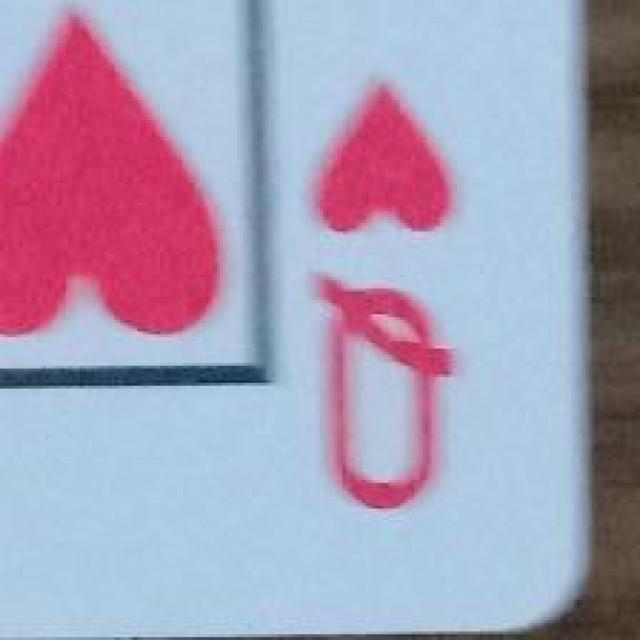Queen of hearts: (0, 0, 590, 617)
